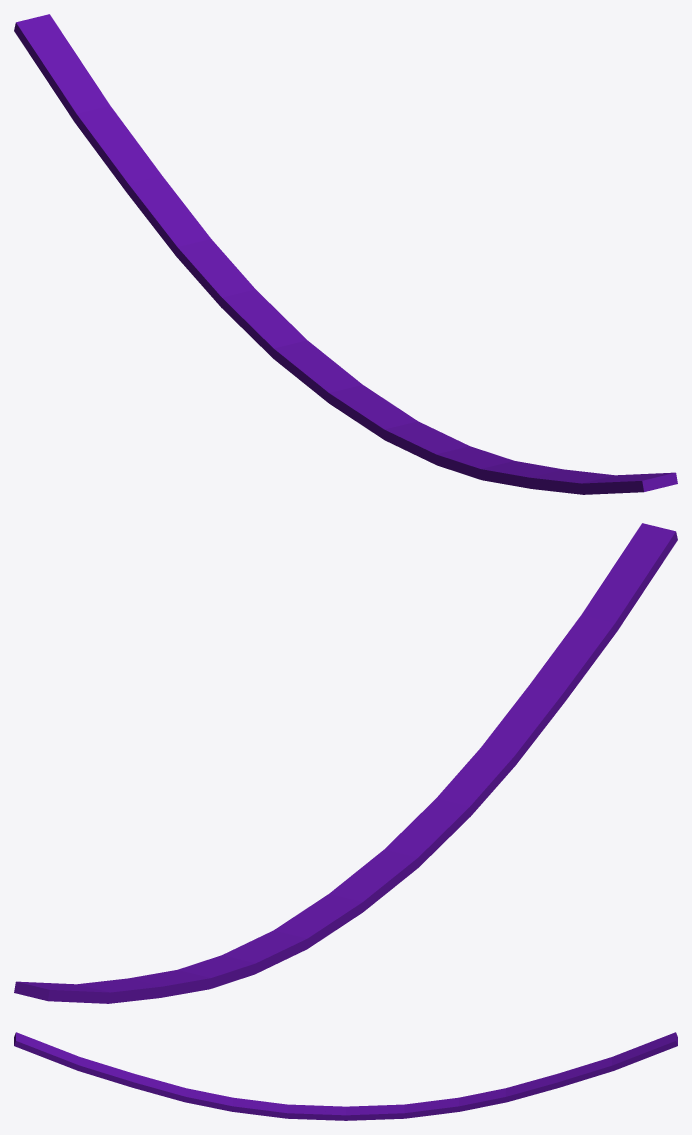
The model's file is Tape_4_chunks.fbx.
3 views of the same model, one above another, from view 1: azimuth 30°, elevation 25°; view 2: azimuth 150°, elevation 25°; view 3: azimuth 270°, elevation 25° (orthographic). The views are drawn at different scales.
Visible parts, largest first — view 1: Tape_4_2, Tape_4_1, Tape_4_3, Tape_4_0; view 2: Tape_4_3, Tape_4_2, Tape_4_1, Tape_4_0; view 3: Tape_4_2, Tape_4_3, Tape_4_0, Tape_4_1.
Part boxes in pixels (box(x1,y1,x2,y2)): Tape_4_2: box(14, 14, 344, 386); Tape_4_1: box(308, 378, 509, 484); Tape_4_3: box(493, 458, 677, 494); Tape_4_0: box(336, 370, 506, 458); Tape_4_3: box(473, 523, 677, 762); Tape_4_2: box(14, 905, 344, 1003); Tape_4_1: box(332, 729, 543, 925); Tape_4_0: box(311, 756, 473, 905); Tape_4_2: box(359, 1032, 677, 1119); Tape_4_3: box(14, 1032, 198, 1099); Tape_4_0: box(177, 1098, 366, 1120); Tape_4_1: box(173, 1084, 364, 1111).
Size of the model in its own units: 24.08 by 103 by 776.
